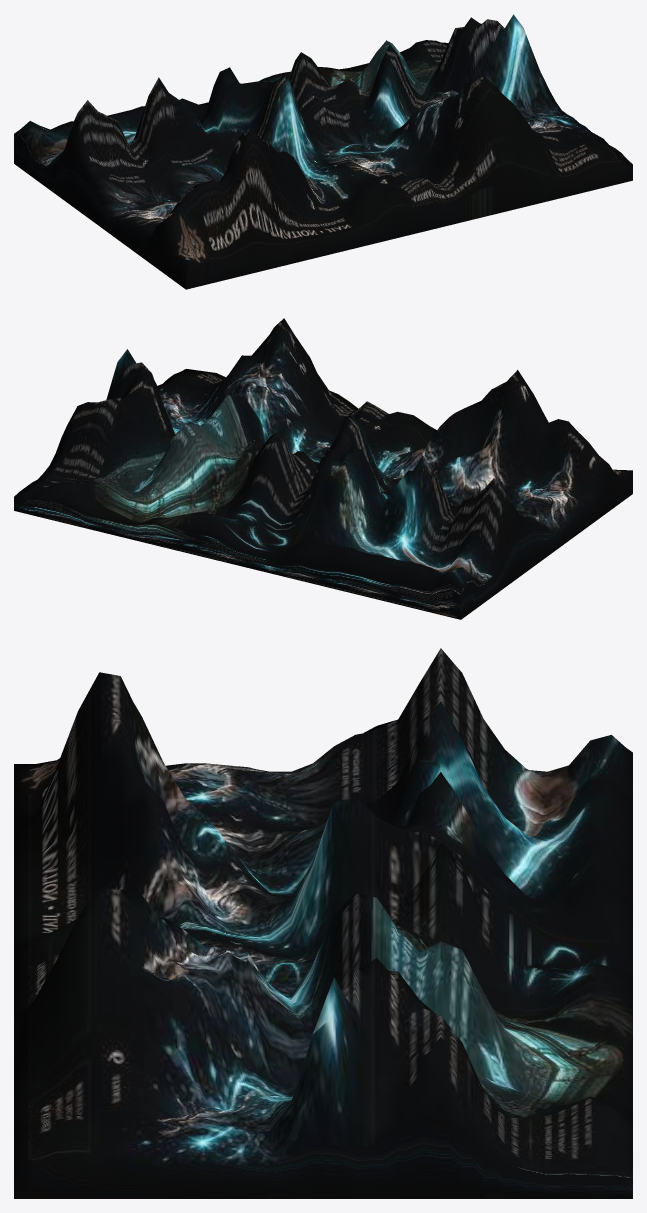
Rendered from CUL_11_Sword_Jian.glb.
3 renders of one model, top to bottom at view 1: azimuth 30°, elevation 25°; view 2: azimuth 150°, elevation 25°; view 3: azimuth 270°, elevation 25°, orthographic. The views are drawn at different scales.
Parts seen in each view (by area): view 1: CUL_11_Sword_Jian; view 2: CUL_11_Sword_Jian; view 3: CUL_11_Sword_Jian.
Boxes of the visible parts, x1,y1,x2,y2 form: CUL_11_Sword_Jian: (14,14,632,289); CUL_11_Sword_Jian: (14,318,632,619); CUL_11_Sword_Jian: (14,648,632,1198).
Bounding box in the file's own units: 2 × 0.51 × 1.33.
Materials: 1 (1 with a texture image).
